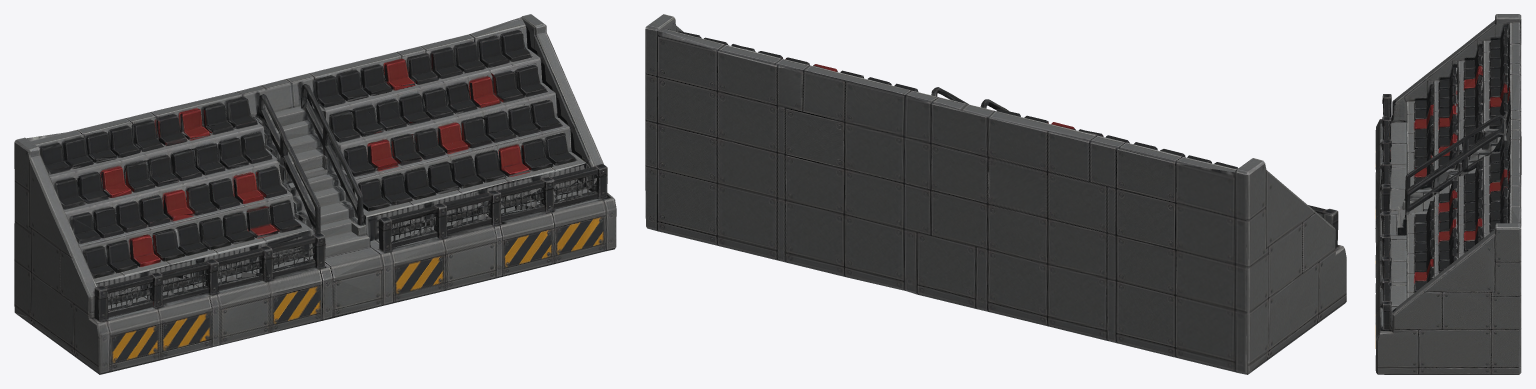
The model's file is stands.glb.
The picture shows the model from 3 angles, left to right: view 1: azimuth 30°, elevation 25°; view 2: azimuth 150°, elevation 25°; view 3: azimuth 270°, elevation 25°; orthographic projection. The views are drawn at different scales.
Parts seen in each view (by area): view 1: output_unwrapped; view 2: output_unwrapped; view 3: output_unwrapped.
Part boxes in pixels (left/top/right/bottom): output_unwrapped: left=14, top=14, right=616, bottom=374; output_unwrapped: left=645, top=14, right=1346, bottom=374; output_unwrapped: left=1375, top=14, right=1521, bottom=374.
Bounding box in the file's own units: 1.9 × 0.612 × 0.5459.
Materials: 1 (1 with a texture image).
